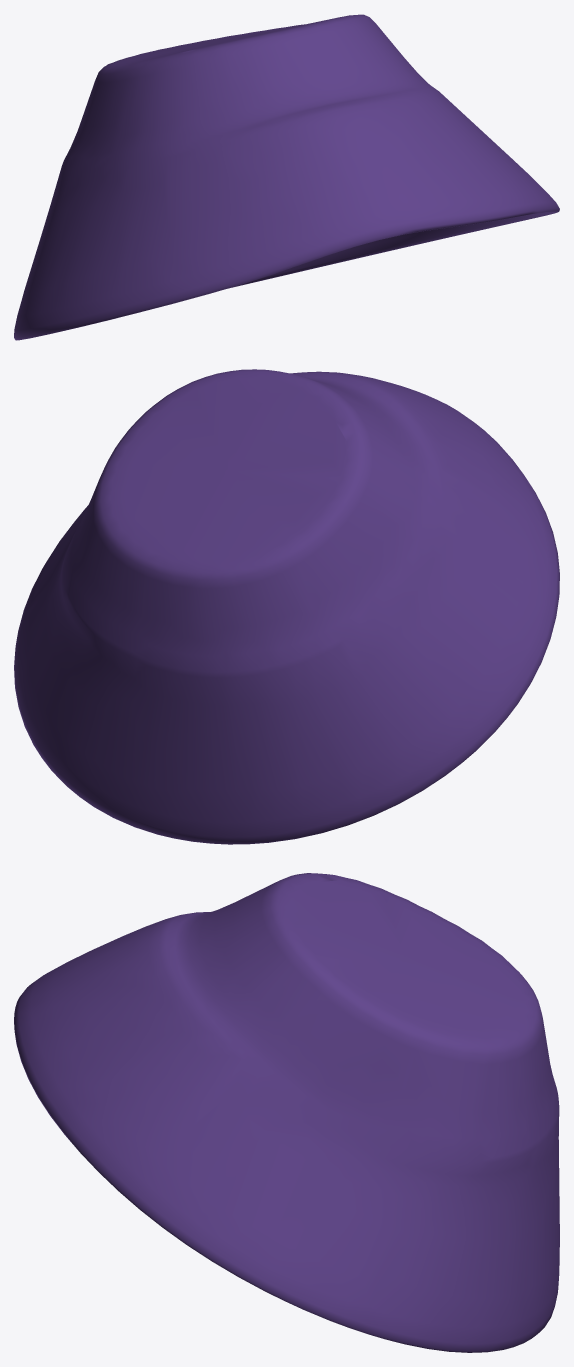
The model's file is headwear-hat-c3131461.glb.
3 views of the same model, one above another, from view 1: azimuth 30°, elevation 25°; view 2: azimuth 150°, elevation 25°; view 3: azimuth 270°, elevation 25° (orthographic). The views are drawn at different scales.
Parts seen in each view (by area): view 1: hat.001; view 2: hat.001; view 3: hat.001.
Part boxes in pixels (x1,y1,x2,y2): hat.001: [14, 14, 559, 340]; hat.001: [14, 369, 559, 844]; hat.001: [14, 873, 559, 1352].
Size of the model in its own units: 2.42 by 1.74 by 2.16.
